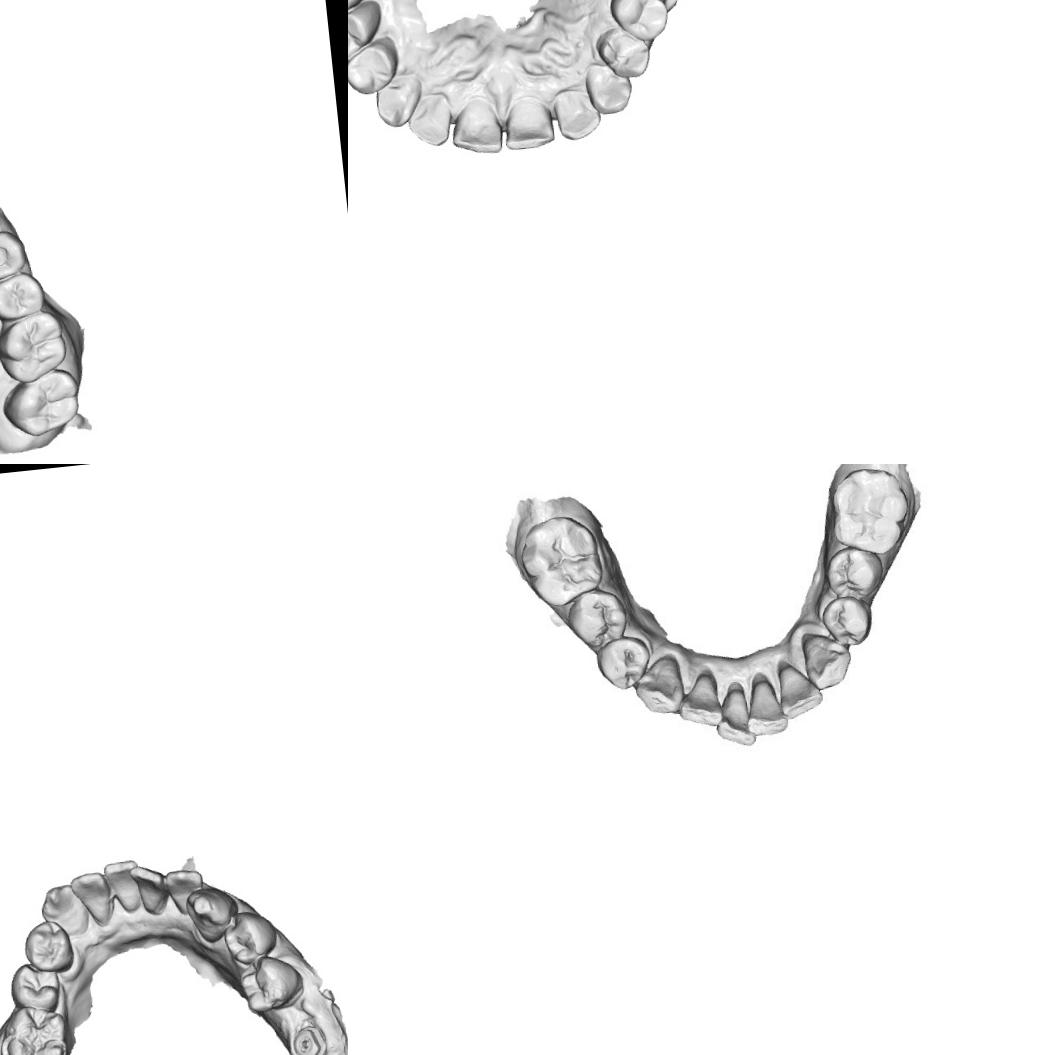canine: (631, 654, 692, 718), (182, 882, 241, 946), (798, 628, 856, 691), (370, 72, 428, 130), (20, 917, 76, 976), (37, 880, 91, 940), (582, 59, 636, 118)
implant_minus: (289, 1023, 330, 1055)
incisor: (446, 92, 508, 160), (500, 94, 560, 154), (549, 82, 605, 144), (710, 686, 758, 752), (740, 679, 791, 739), (674, 674, 726, 732), (404, 90, 454, 150), (775, 662, 826, 720), (68, 868, 115, 929), (127, 860, 170, 918), (101, 858, 143, 915), (162, 865, 207, 918)
molar: (515, 511, 607, 612), (825, 464, 915, 560), (0, 366, 85, 440), (0, 307, 72, 387), (0, 1000, 73, 1055)
premolar: (234, 949, 308, 1016), (563, 586, 633, 654), (592, 632, 654, 696), (822, 543, 887, 603), (218, 907, 280, 969), (594, 23, 654, 82), (818, 592, 876, 651), (348, 37, 403, 99), (6, 958, 64, 1016), (605, 0, 672, 46), (0, 270, 51, 323), (0, 226, 31, 285), (348, 5, 379, 63)
